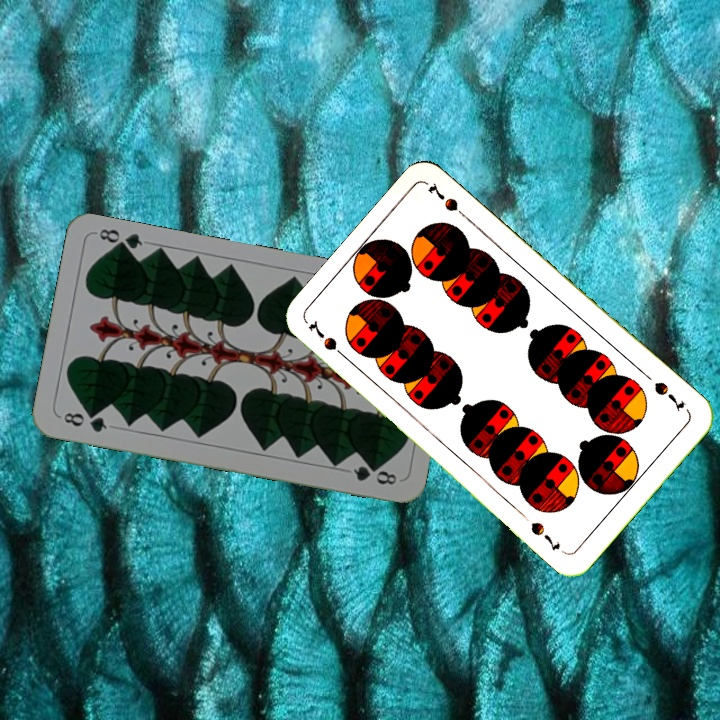G8: (56, 408, 110, 435)
S7: (304, 316, 352, 364), (650, 377, 688, 415)
